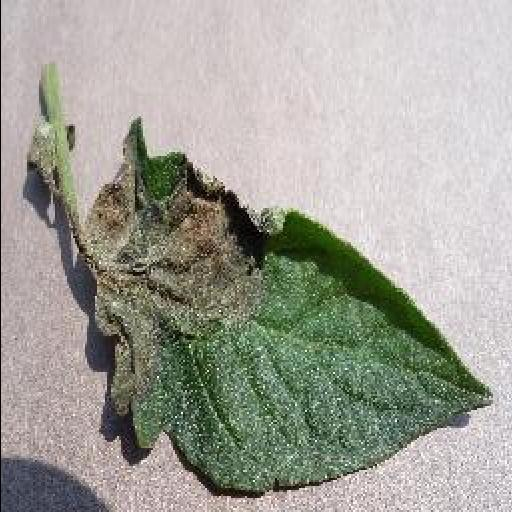disease_tomato: (80, 112, 498, 496)
